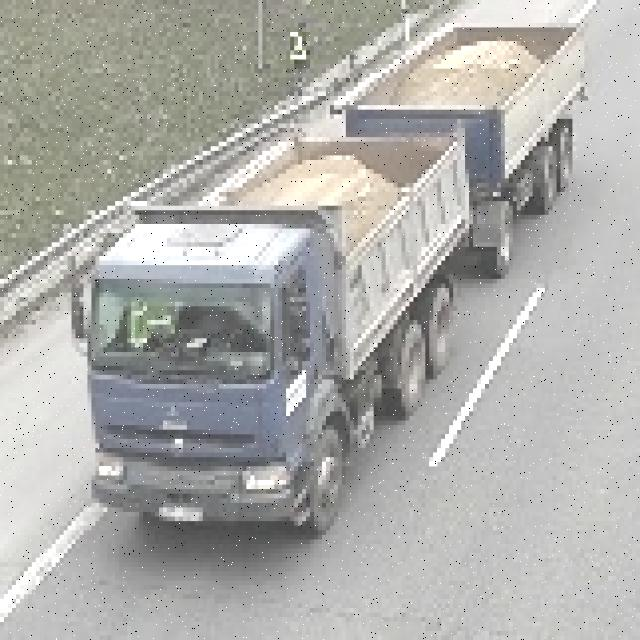truck: (71, 14, 588, 535)
